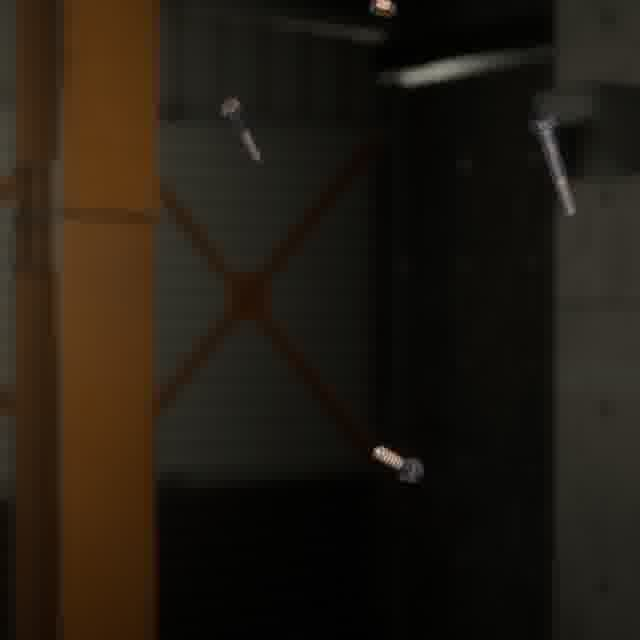bolt: (524, 110, 581, 220), (215, 93, 266, 169), (368, 440, 428, 488), (364, 0, 401, 22)
